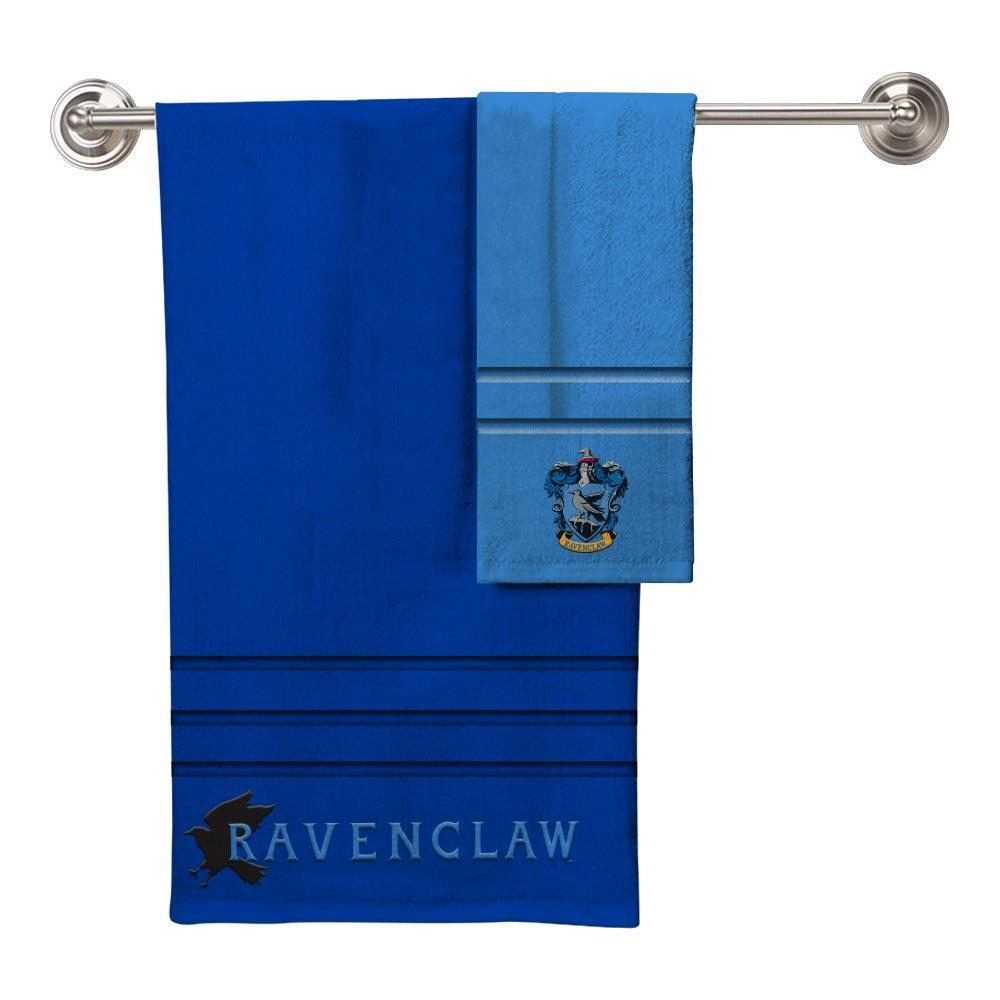towel: (135, 82, 718, 962)
